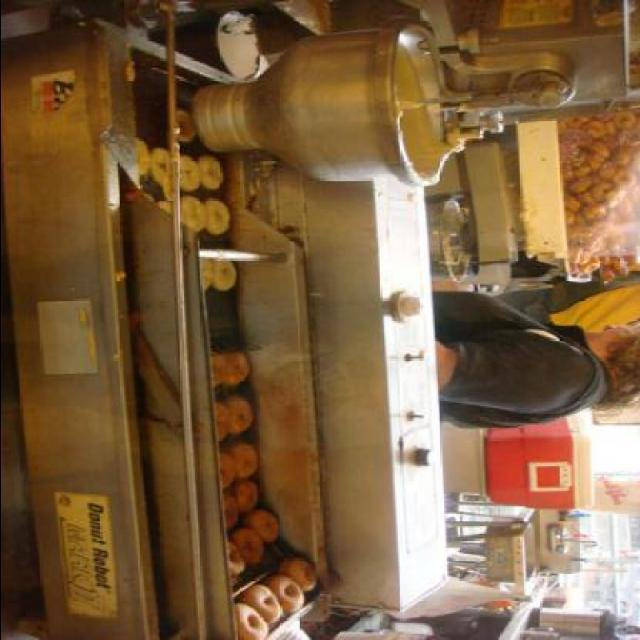Donuts: (138, 124, 312, 638), (558, 110, 638, 288)
